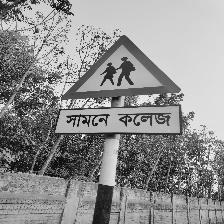College-in-front: (38, 22, 194, 133)
